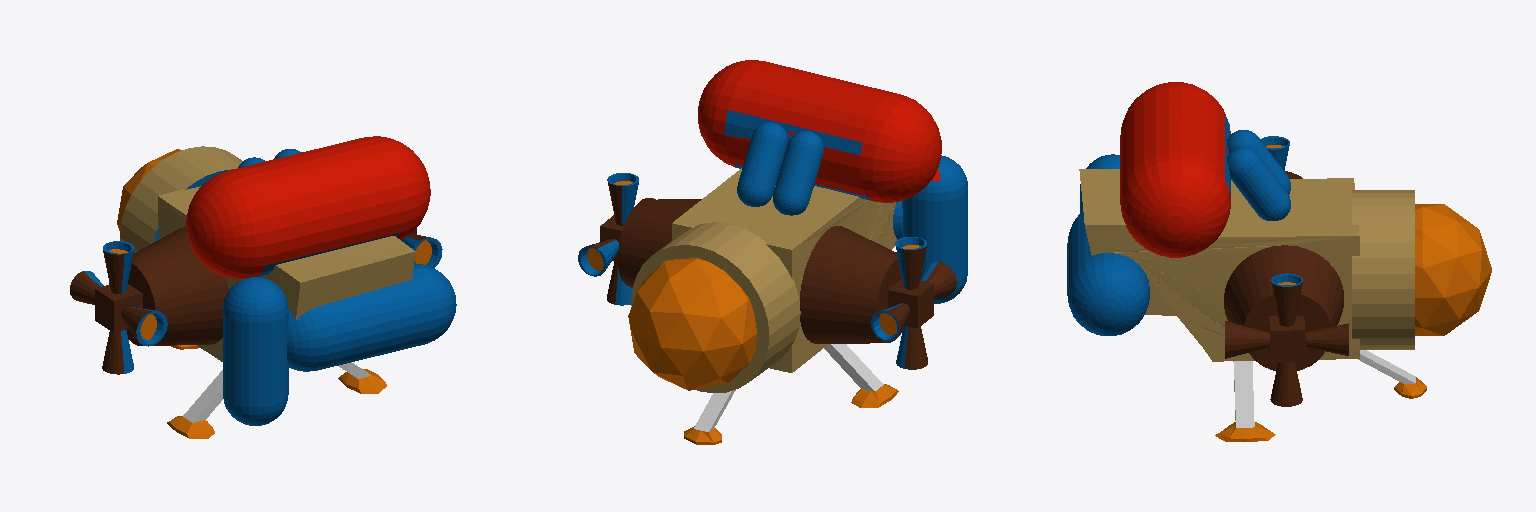
Rendered from spaceShip2.obj.
The picture shows the model from 3 angles: view 1: azimuth 30°, elevation 25°; view 2: azimuth 150°, elevation 25°; view 3: azimuth 270°, elevation 25°; orthographic projection.
Visible parts, largest first — view 1: BODY; view 2: BODY; view 3: BODY.
Part boxes in pixels (x1,y1,x2,y2): BODY: (70,136,456,438); BODY: (578,60,967,444); BODY: (1067,82,1491,441).
Bounding box in the file's own units: 5.3 × 4.33 × 6.12.